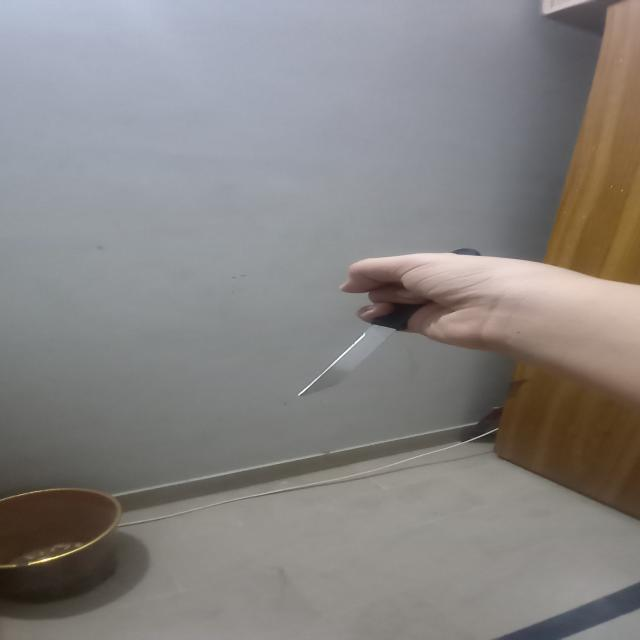Knife: (287, 242, 493, 406)
